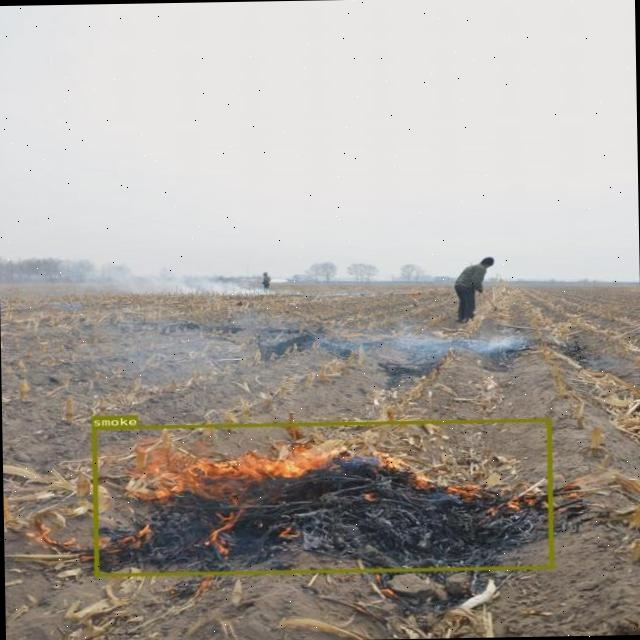smoke: (90, 418, 552, 576)
